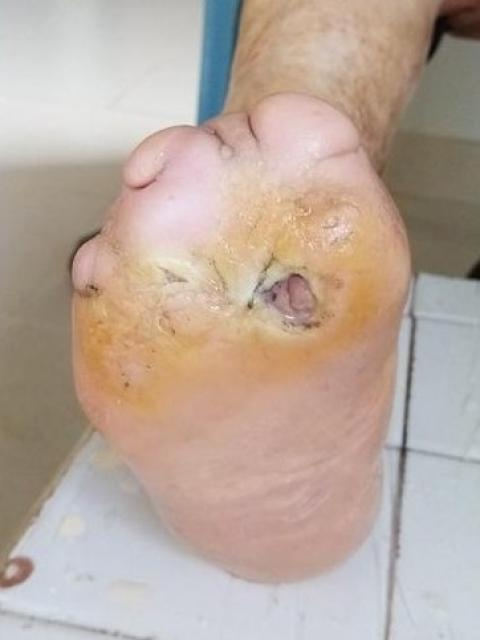wound: (246, 256, 348, 342), (292, 186, 359, 251), (204, 257, 232, 314), (155, 309, 177, 339), (157, 267, 187, 285)
